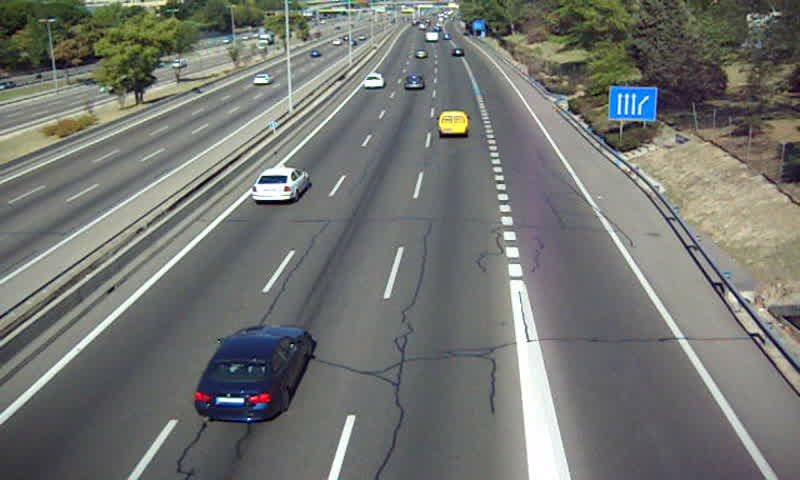car: (194, 326, 313, 422), (249, 167, 310, 202), (362, 73, 385, 90), (403, 74, 425, 91)
van: (438, 111, 468, 138)
